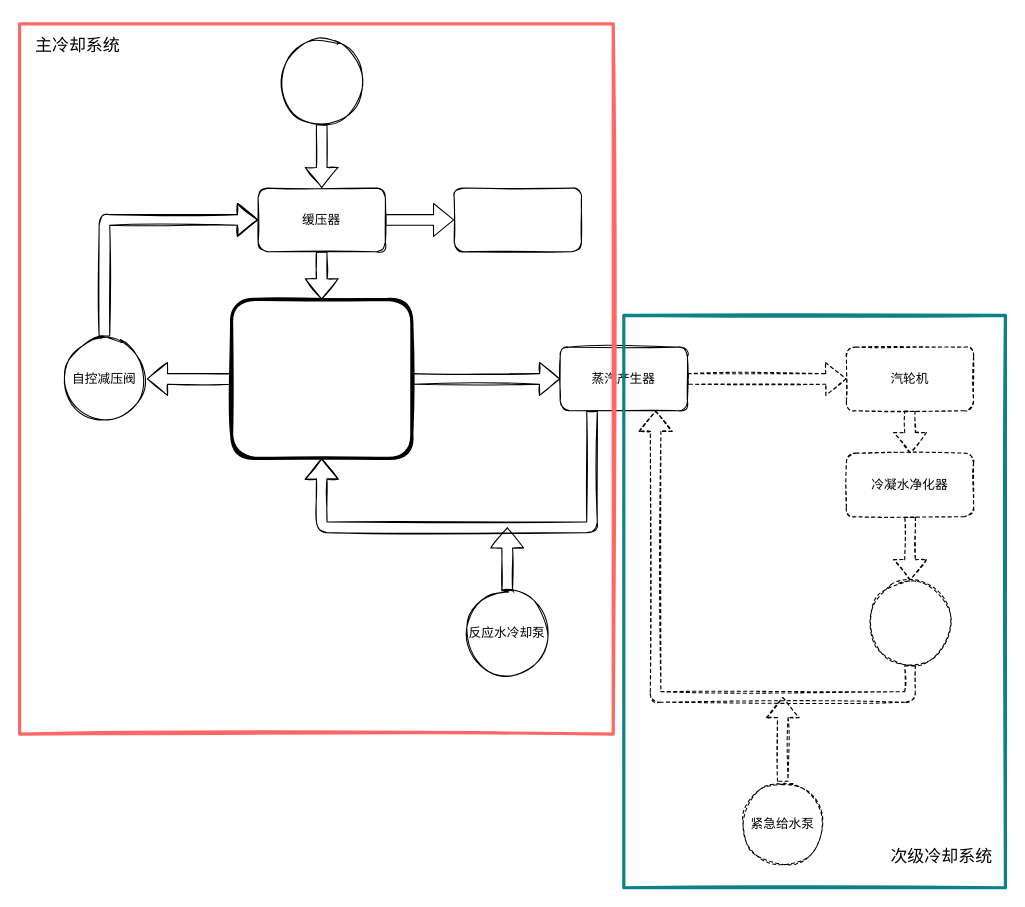
Image size: 1025x907. Some labels were removed from this diagram. The shapes that lost their labels are listed below. From the top down, each one's centre as x and y in pixels, then its label:
point (321, 82): 高压注入泵
point (517, 219): 污水池
point (321, 378): 堆芯
point (909, 622): 主供水泵
